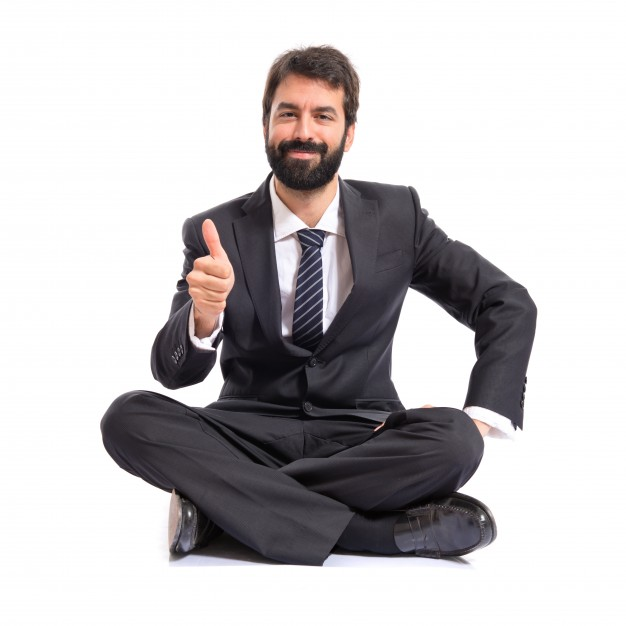thumbsup: (186, 219, 230, 314)
